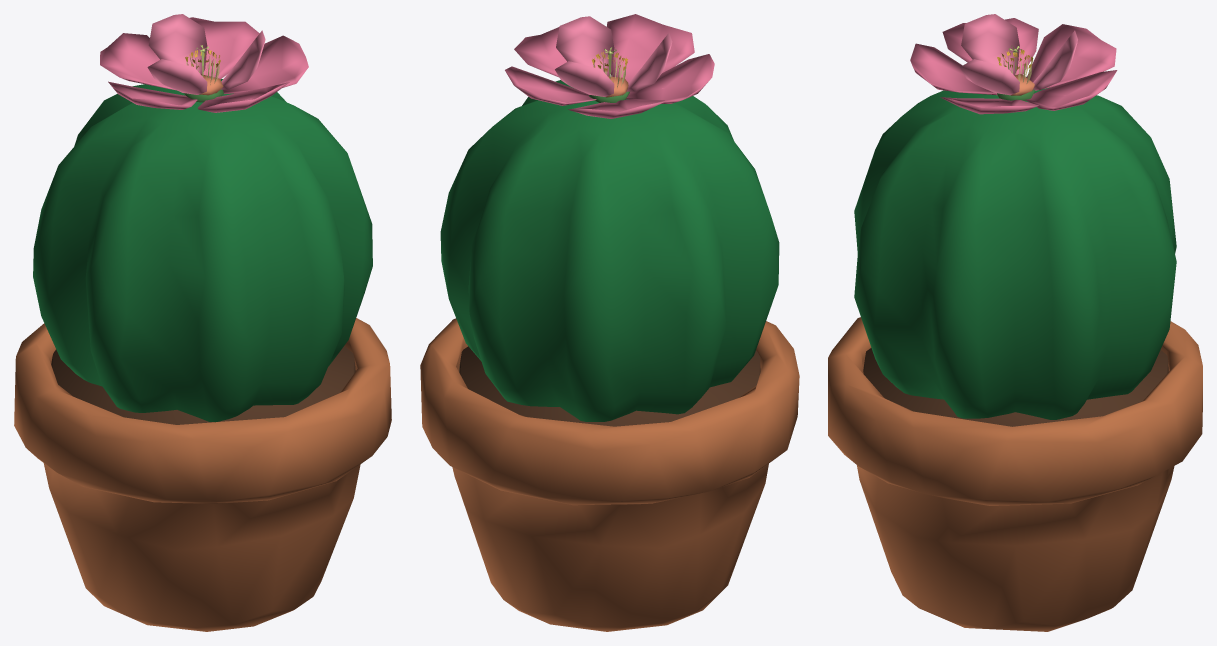
The model's file is cactus-pot.glb.
3 renders of one model, left to right at view 1: azimuth 30°, elevation 25°; view 2: azimuth 150°, elevation 25°; view 3: azimuth 270°, elevation 25°, orthographic.
Visible parts, largest first — view 1: cactus-pot; view 2: cactus-pot; view 3: cactus-pot.
Boxes of the visible parts, x1,y1,x2,y2 form: cactus-pot: (14, 14, 391, 631); cactus-pot: (420, 14, 799, 631); cactus-pot: (828, 14, 1202, 631).
Bounding box in the file's own units: 0.371 × 0.6 × 0.371.
